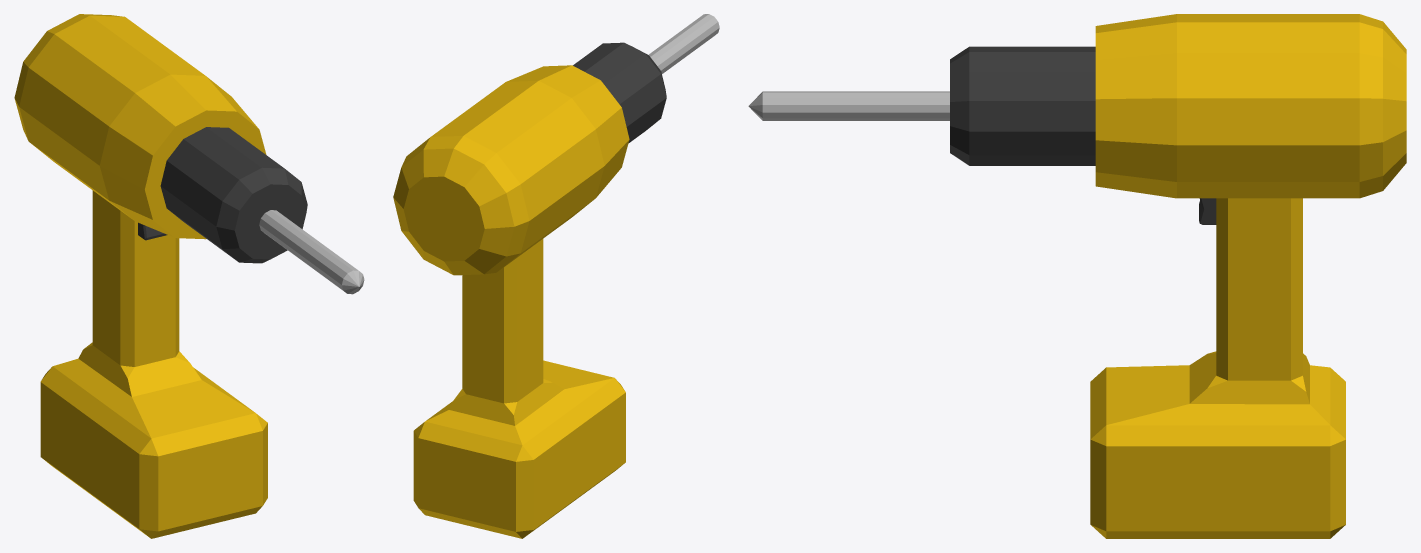
Rendered from Drill.glb.
3 renders of one model, left to right at view 1: azimuth 30°, elevation 25°; view 2: azimuth 150°, elevation 25°; view 3: azimuth 270°, elevation 25°, orthographic. The views are drawn at different scales.
Visible parts, largest first — view 1: Drill; view 2: Drill; view 3: Drill.
Boxes of the visible parts, box(x1,y1,x2,y2) form: Drill: box(14, 14, 364, 538); Drill: box(393, 14, 719, 538); Drill: box(748, 14, 1406, 538).
Bounding box in the file's own units: 20.22 × 58.64 × 71.9.
